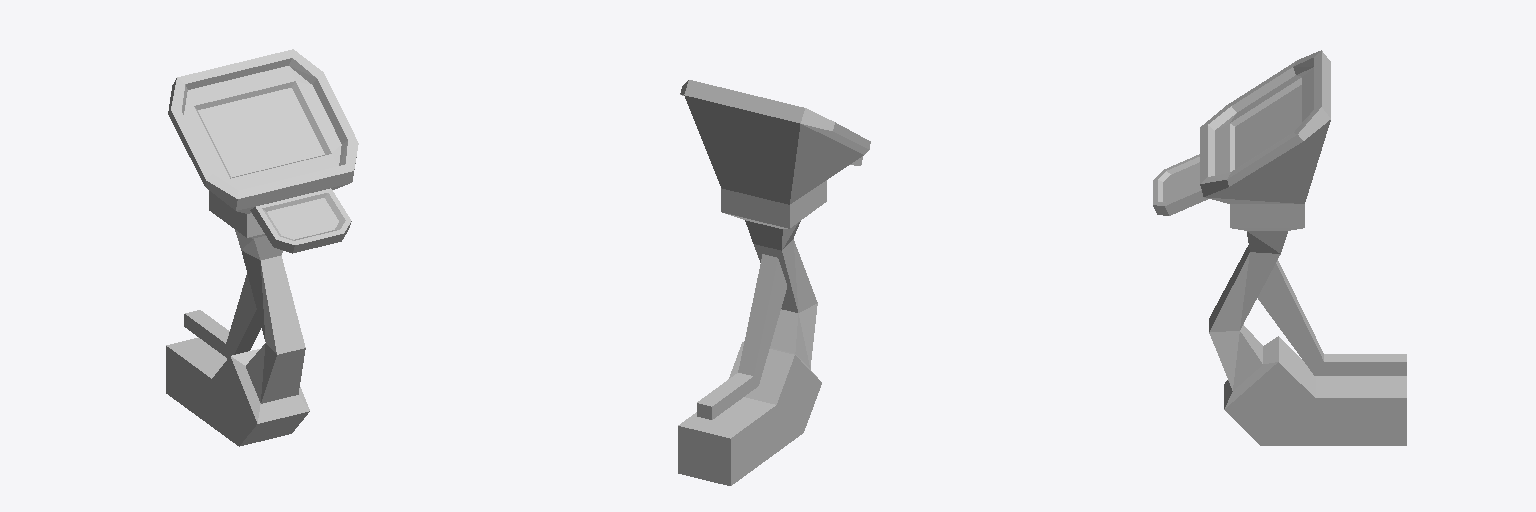
The model's file is SciFi_Panel02.obj.
3 views of the same model, side by side, from view 1: azimuth 30°, elevation 25°; view 2: azimuth 150°, elevation 25°; view 3: azimuth 270°, elevation 25° (orthographic).
Parts seen in each view (by area): view 1: SM_Prop_ControlPanel_02; view 2: SM_Prop_ControlPanel_02; view 3: SM_Prop_ControlPanel_02.
Part boxes in pixels (left/top/right/bottom): SM_Prop_ControlPanel_02: left=166, top=49, right=358, bottom=446; SM_Prop_ControlPanel_02: left=678, top=80, right=870, bottom=485; SM_Prop_ControlPanel_02: left=1153, top=50, right=1406, bottom=445.
Bounding box in the file's own units: 0.45 × 1 × 0.65.